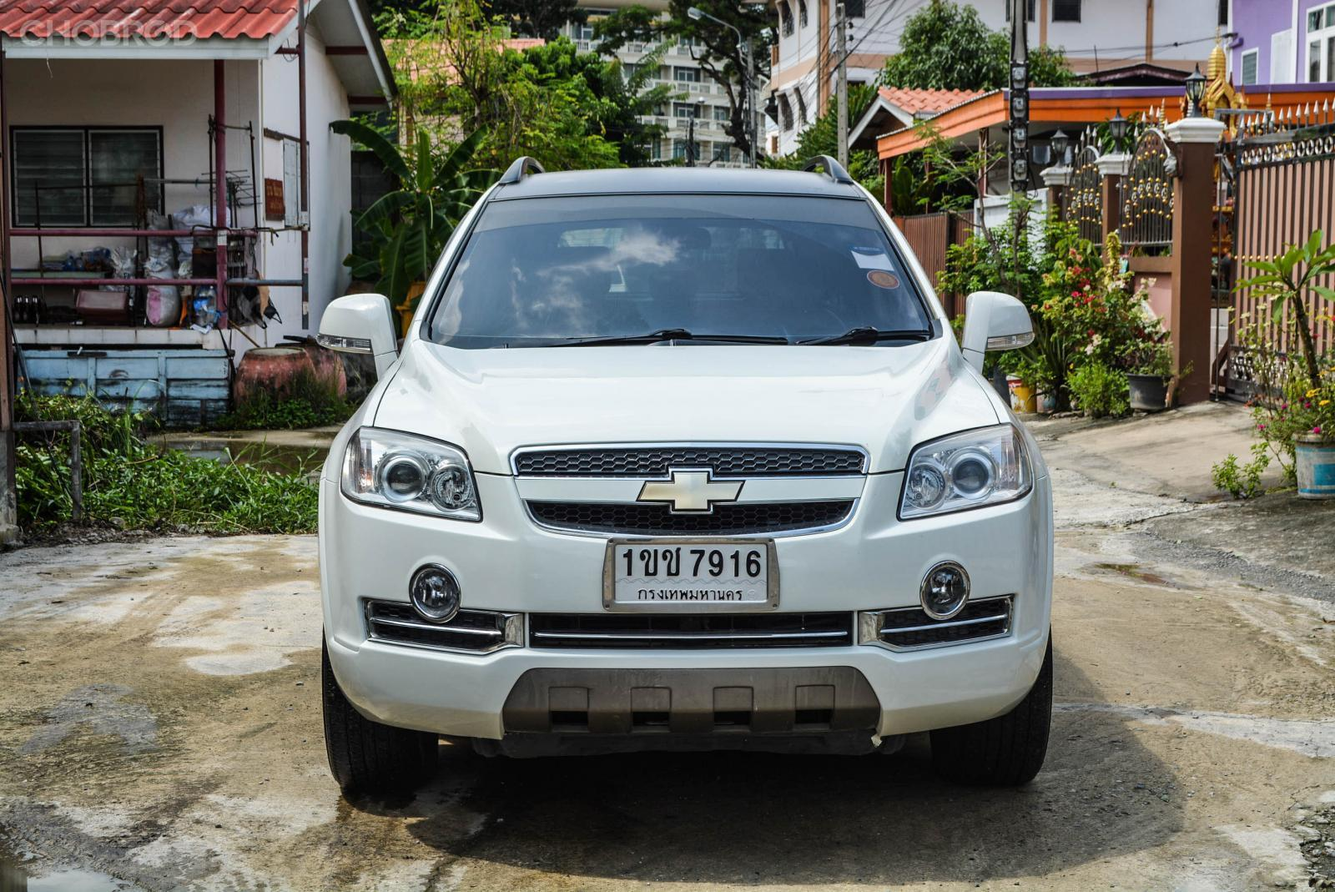license-plate: (600, 533, 786, 615)
